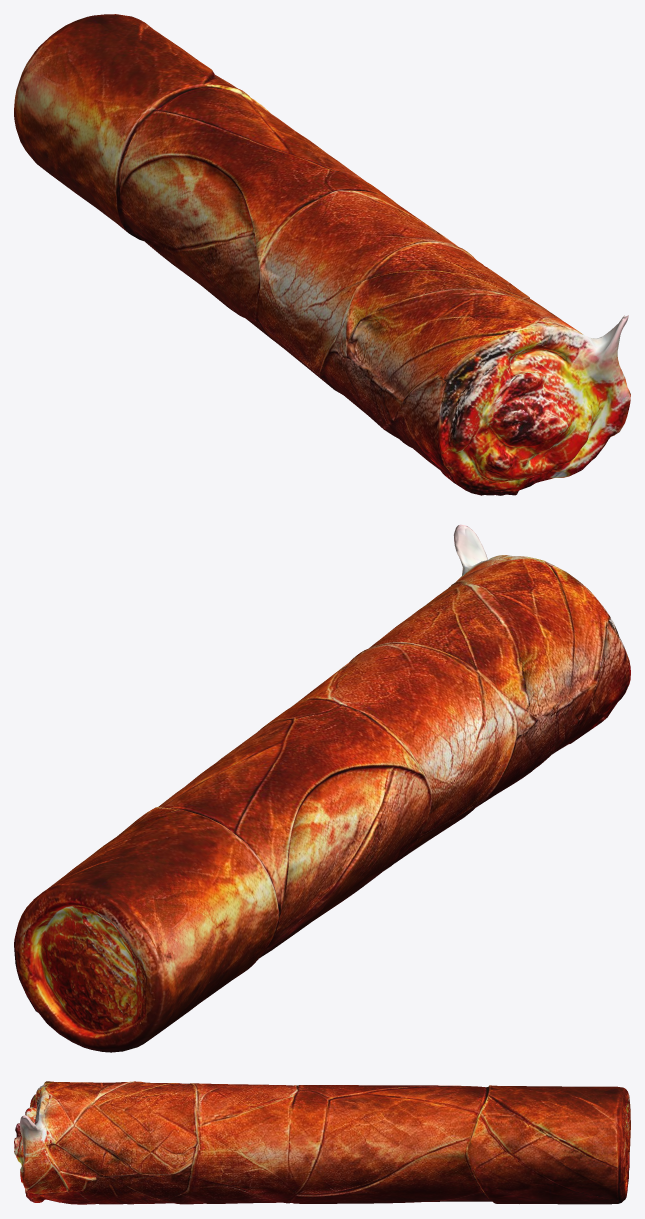
File: cigar.glb
3 renders of one model, top to bottom at view 1: azimuth 30°, elevation 25°; view 2: azimuth 150°, elevation 25°; view 3: azimuth 270°, elevation 25°, orthographic. The views are drawn at different scales.
Parts seen in each view (by area): view 1: tripo_node_ad755692-5945-41cc-a694-fbb32bfeb9ce; view 2: tripo_node_ad755692-5945-41cc-a694-fbb32bfeb9ce; view 3: tripo_node_ad755692-5945-41cc-a694-fbb32bfeb9ce.
Part boxes in pixels (x1,y1,x2,y2): tripo_node_ad755692-5945-41cc-a694-fbb32bfeb9ce: (14,14,630,495); tripo_node_ad755692-5945-41cc-a694-fbb32bfeb9ce: (14,524,630,1052); tripo_node_ad755692-5945-41cc-a694-fbb32bfeb9ce: (14,1081,630,1204).
Bounding box in the file's own units: 0.2273 × 0.1991 × 0.9992.
1 material, 1 textured.
